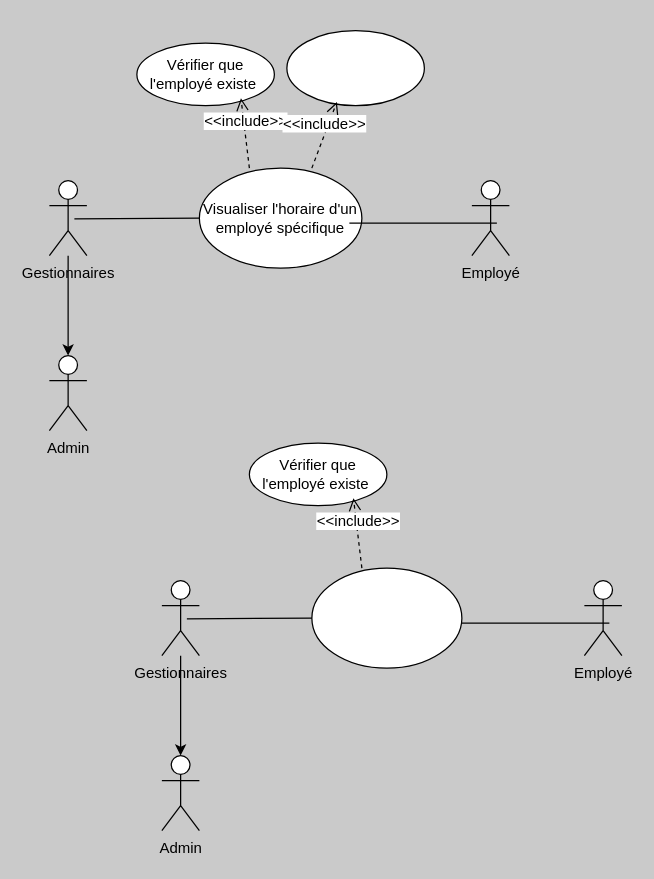
The diagram is 654 pixels wide and 879 high, and some of its shapes have lost their labels. Here are the shapes that lost their labels. From the top down, the centre of each, then its label:
point (355, 67): Vérifier que l'employé ait des plages horaires
point (386, 617): Visualiser les heures de pointage d'un employé spécifique
